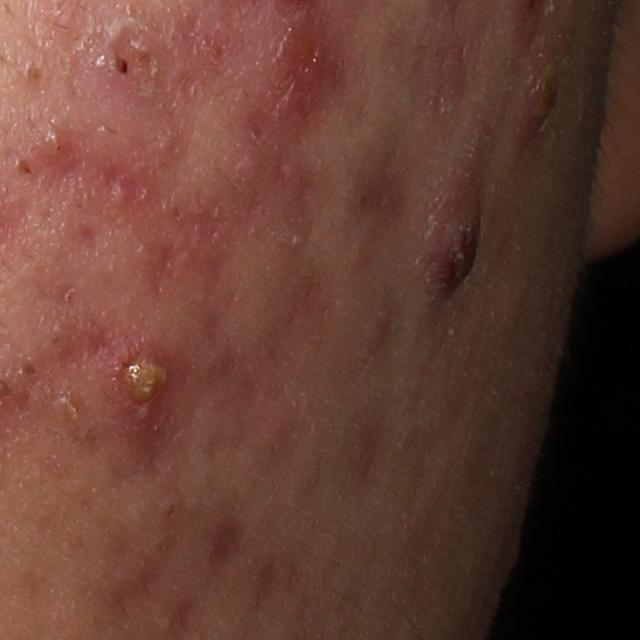atrophic_scar: (137, 235, 189, 297)
comedo: (159, 496, 188, 526), (10, 155, 35, 179), (19, 358, 40, 378)
nodule: (404, 142, 489, 363), (236, 5, 339, 138), (93, 330, 192, 450)
papule: (67, 7, 165, 104), (518, 25, 567, 150), (34, 118, 79, 167)
